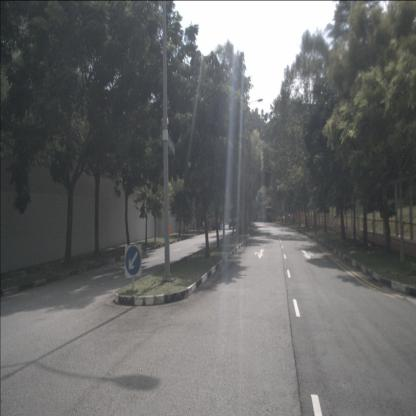vehicle-car: (212, 218, 223, 230)
vehicle-truck: (227, 209, 240, 230), (264, 207, 273, 223)
